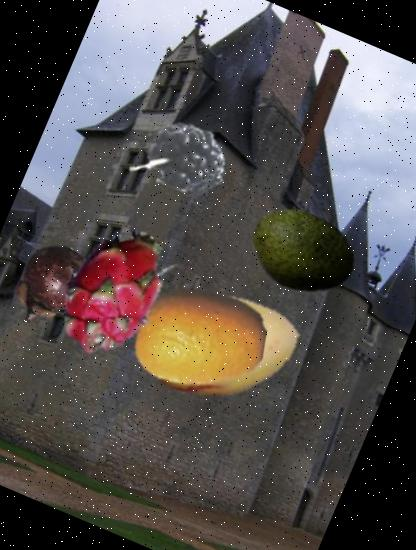Avocado: (232, 183, 372, 323)
Kumquats: (112, 253, 286, 426)
Mangostan: (0, 229, 104, 342)
Mulberry: (120, 76, 258, 214)
Pepino: (130, 250, 324, 444)
Pitahaya: (21, 202, 199, 380)
